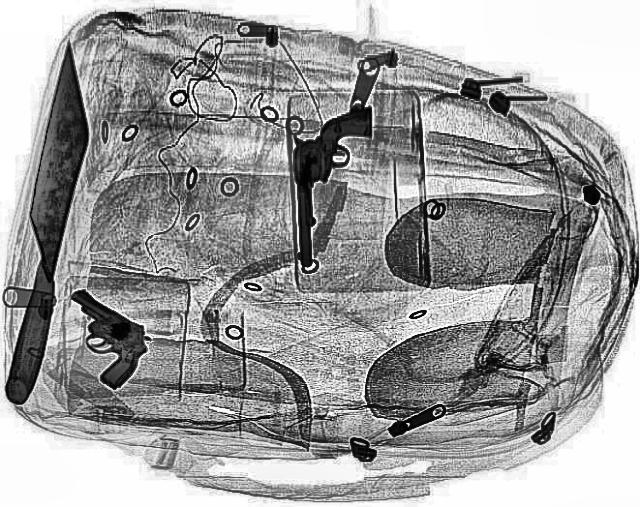Gun: (24, 284, 172, 389), (288, 106, 382, 266)
Knife: (1, 39, 98, 405)
